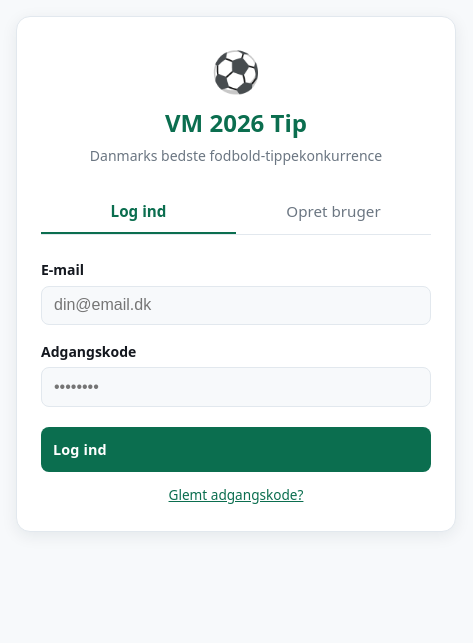
Test: LoginPage › skifter tilbage til login-fane fra opret-fane
The image size is (473, 643).
Click the button "Opret bruger". click: (334,212)
box: [236,190,431,234]
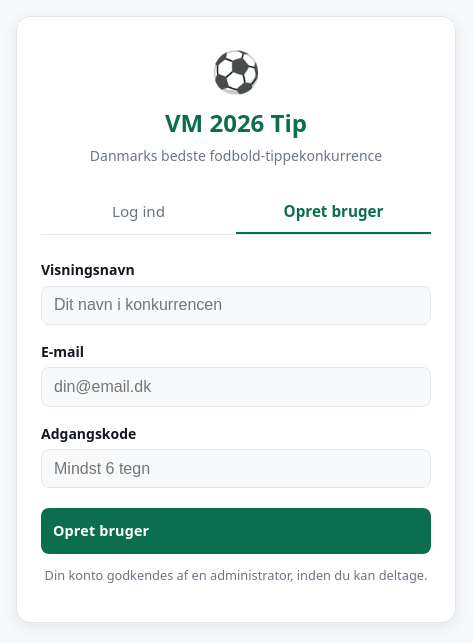
Click the button "Log ind". click: (138,212)
box: [41,190,236,234]
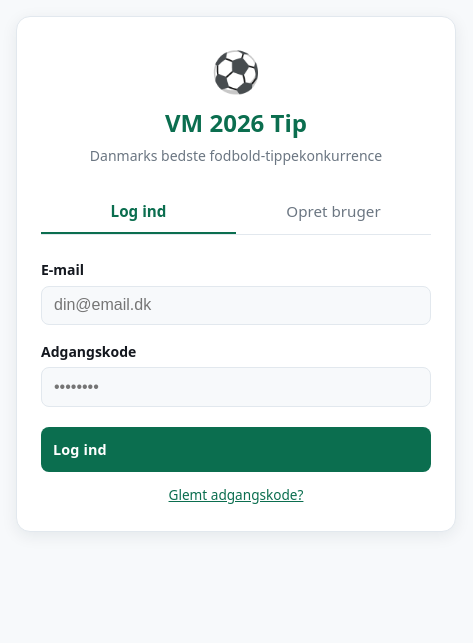
Check: the password field with placeholder "••••••••" is shown, box [41,367,431,407]
